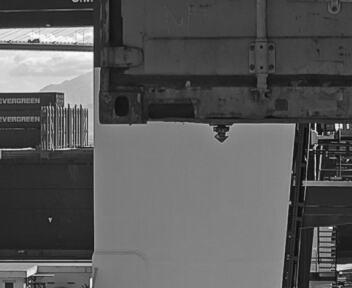twist_lock_2: (161, 158, 227, 195)
